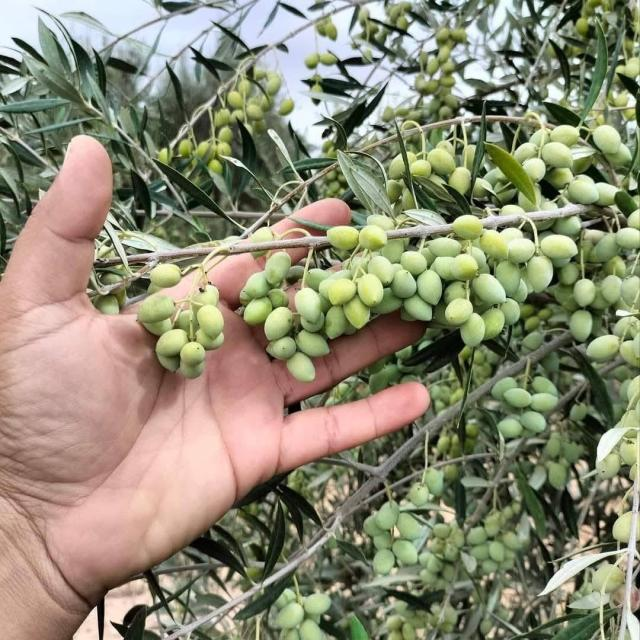Healthy: (327, 225, 387, 251), (472, 273, 508, 304), (137, 294, 175, 323), (526, 254, 554, 293), (264, 307, 294, 342), (196, 303, 224, 340), (540, 234, 578, 260), (155, 329, 190, 357), (586, 335, 621, 363), (295, 287, 322, 323), (479, 229, 510, 260), (296, 329, 329, 358), (286, 351, 316, 382), (243, 295, 273, 325), (417, 269, 442, 305), (461, 312, 486, 348), (264, 251, 292, 283), (540, 142, 573, 169), (358, 273, 383, 308), (367, 255, 395, 286), (567, 179, 600, 205), (593, 124, 621, 154), (426, 147, 456, 175), (569, 309, 594, 342), (450, 253, 479, 281), (327, 279, 357, 306), (452, 215, 484, 240), (445, 298, 473, 325), (391, 270, 417, 299), (150, 263, 181, 287), (399, 251, 427, 277), (391, 540, 419, 565), (573, 279, 597, 308), (372, 549, 396, 575), (520, 410, 547, 432), (503, 388, 532, 408)
